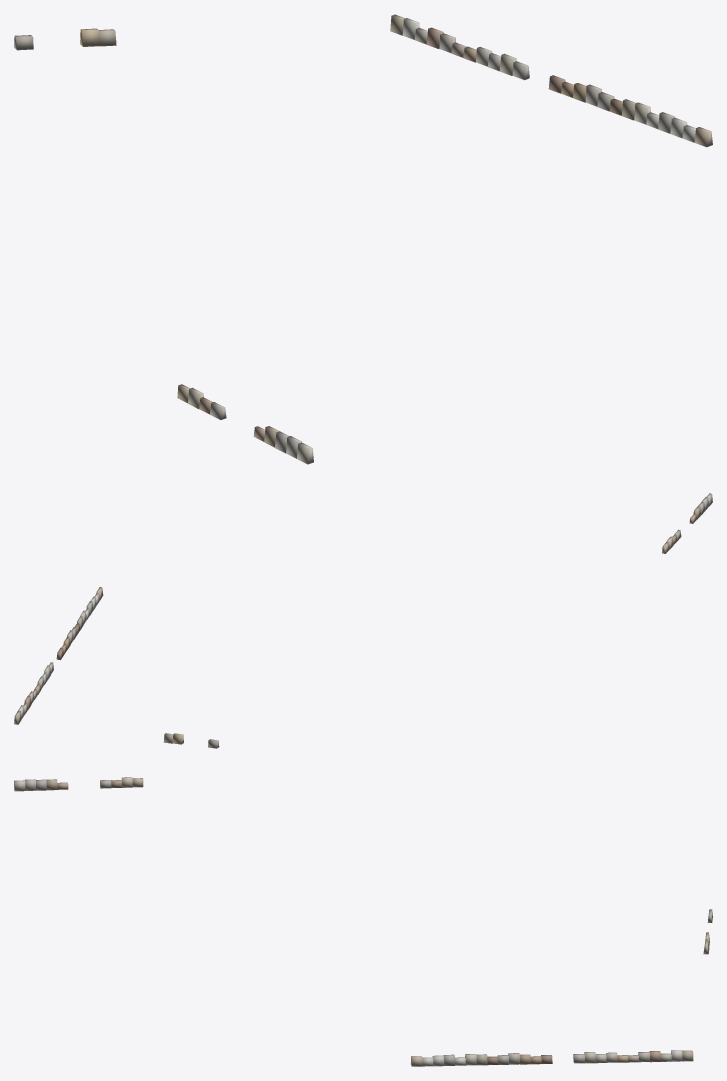
The model's file is farm_12_2_collision.glb.
3 views of the same model, one above another, from view 1: azimuth 30°, elevation 25°; view 2: azimuth 150°, elevation 25°; view 3: azimuth 270°, elevation 25° (orthographic). The views are drawn at different scales.
Parts seen in each view (by area): view 1: geometry_0; view 2: geometry_0; view 3: geometry_0.
Boxes of the visible parts, bbox=[...] form: geometry_0: bbox=[14, 14, 712, 464]; geometry_0: bbox=[14, 493, 712, 748]; geometry_0: bbox=[14, 777, 712, 1066].
Size of the model in its own units: 74.89 by 13.89 by 98.52.
